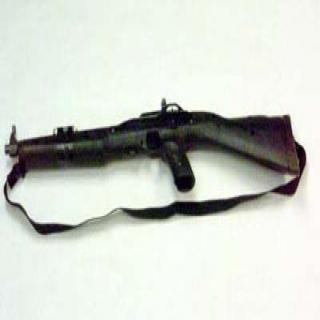gun: (6, 88, 308, 243)
